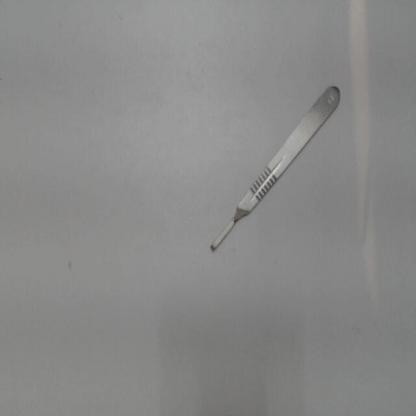No.4 BP Handle: (200, 66, 350, 262)
